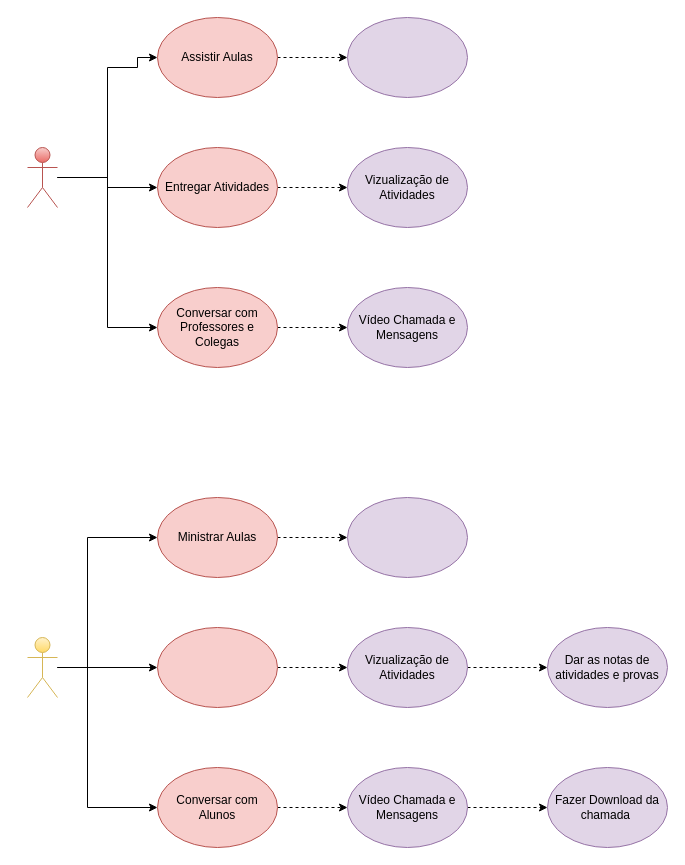
The diagram is 685 pixels wide and 865 high, and some of its shapes have lost their labels. Each missing label, with the centre of its shape:
"Aluno" belongs at pixel 42 177.
"Deixar dúvidas no comentário das aulas" belongs at pixel 407 57.
"Ler e Resolver as dúvidas de alunos durante a aula" belongs at pixel 407 537.
"Professor" belongs at pixel 42 667.
"Receber as Atividades entregues" belongs at pixel 217 667.
